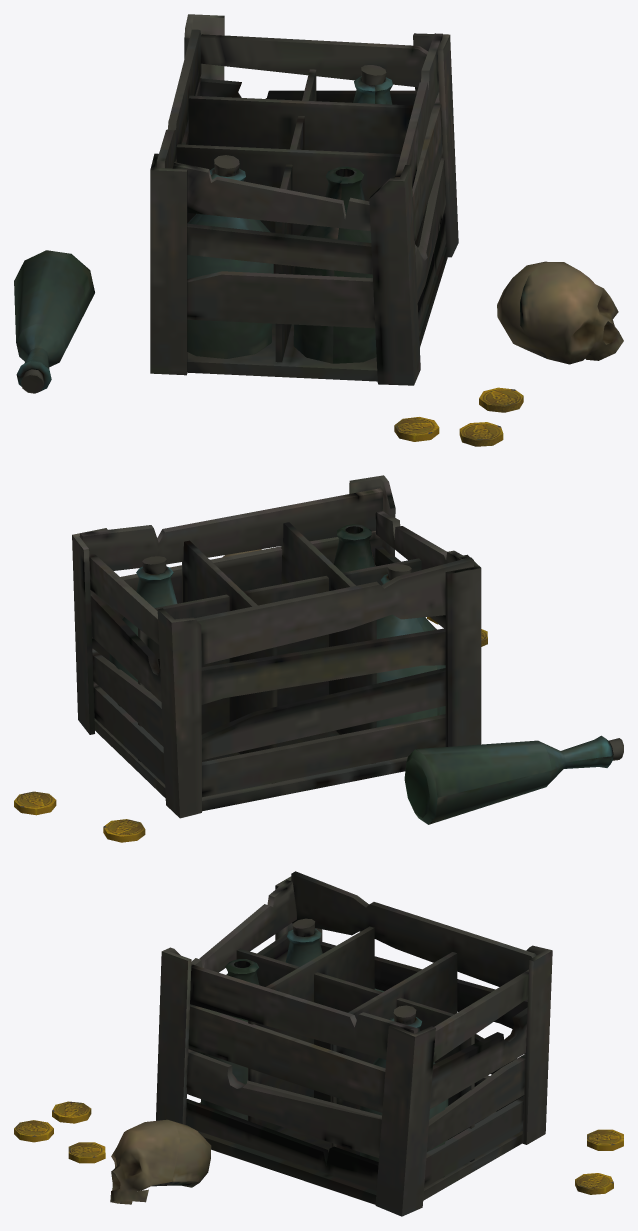
Rendered from creep_camp001o.fbx.
3 renders of one model, top to bottom at view 1: azimuth 30°, elevation 25°; view 2: azimuth 150°, elevation 25°; view 3: azimuth 270°, elevation 25°, orthographic. The views are drawn at different scales.
Parts seen in each view (by area): view 1: creep_camp001o; view 2: creep_camp001o; view 3: creep_camp001o.
Part boxes in pixels (box(x1,y1,x2,y2)): creep_camp001o: box(14, 14, 623, 446); creep_camp001o: box(14, 475, 623, 842); creep_camp001o: box(14, 871, 623, 1216).
Bounding box in the file's own units: 18042 × 7139 × 20677.
